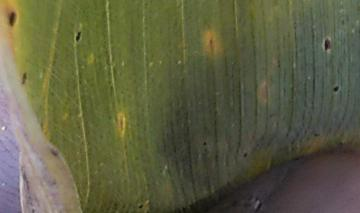tarspot: (8, 12, 18, 28), (322, 37, 331, 52), (21, 72, 28, 84), (75, 32, 82, 43), (332, 85, 340, 93), (242, 151, 248, 158), (202, 140, 207, 147), (139, 203, 143, 209)
